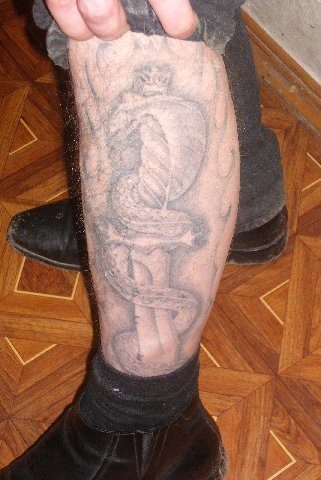tatu7_zmeya: (72, 43, 228, 366)
